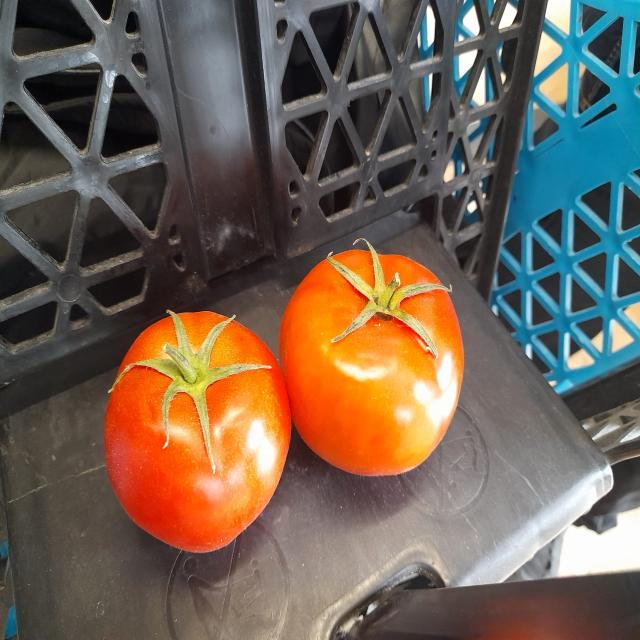tomato: (98, 298, 290, 556), (277, 236, 471, 481)
